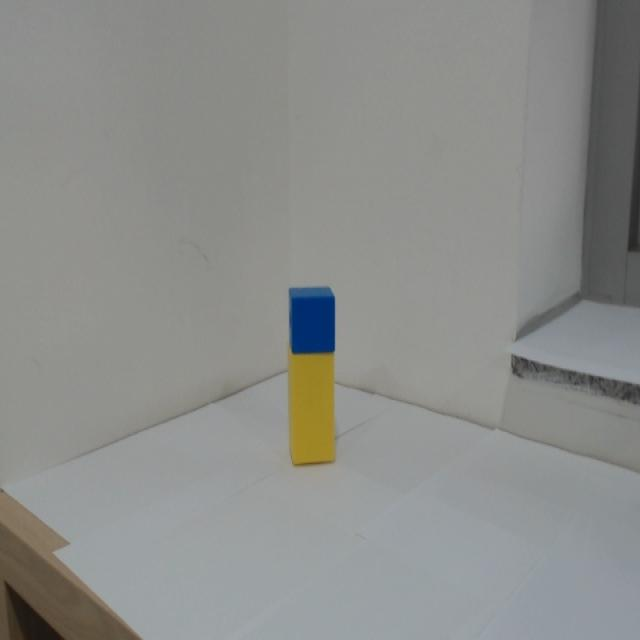cube: (288, 284, 336, 356)
